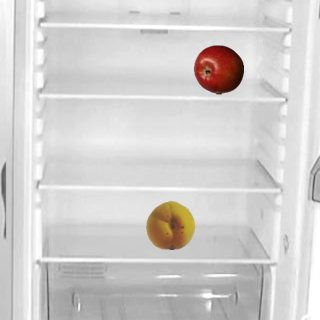Apple Braeburn: (193, 44, 243, 94)
Peach 2: (145, 199, 195, 249)
